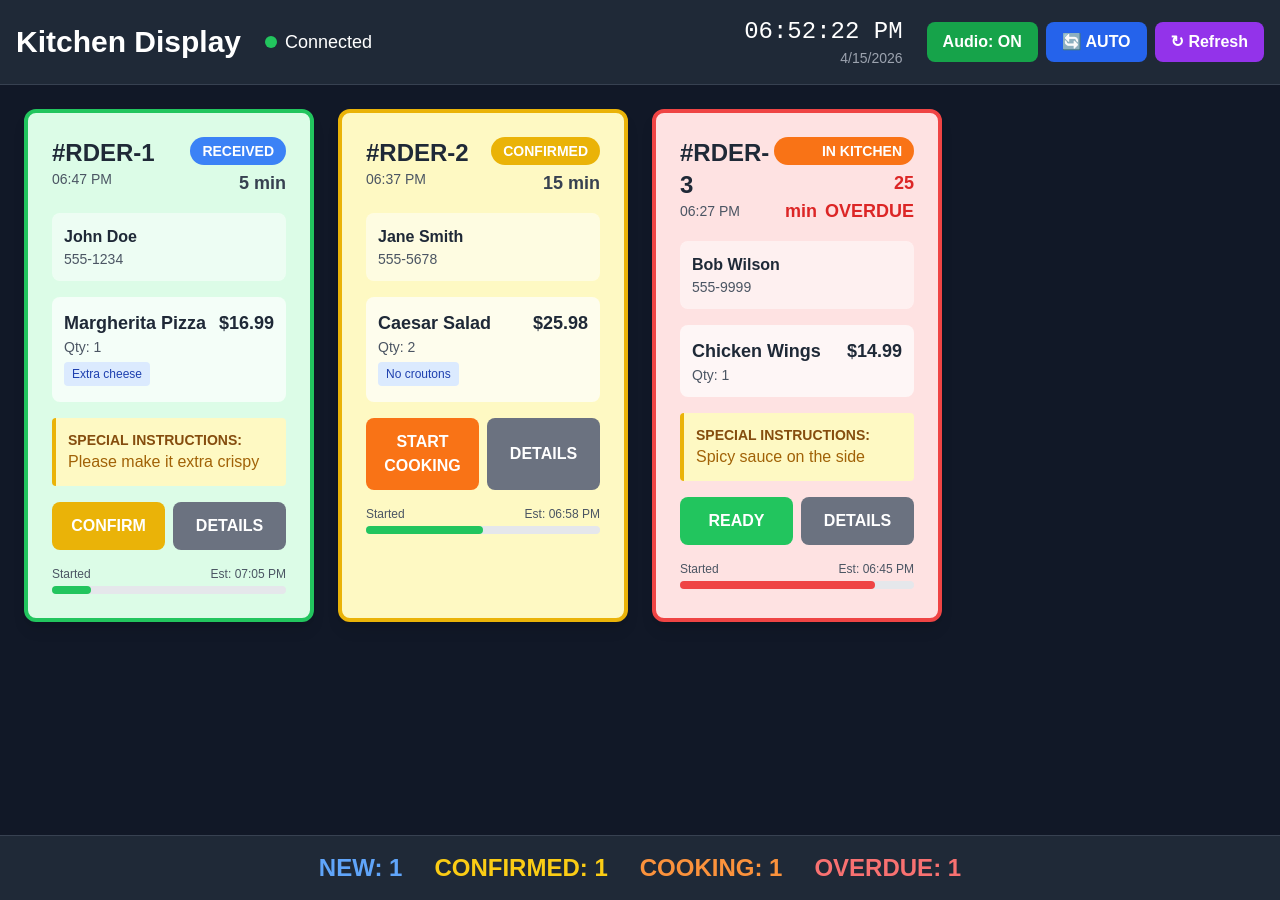
Test: KitchenDisplay › Footer Statistics › updates statistics when orders change
Expected: the text "NEW: 1" is shown, [319,852,402,884]
# Confirm an order
Click the button "CONFIRM".
click(108, 526)  # box [52,502,165,550]
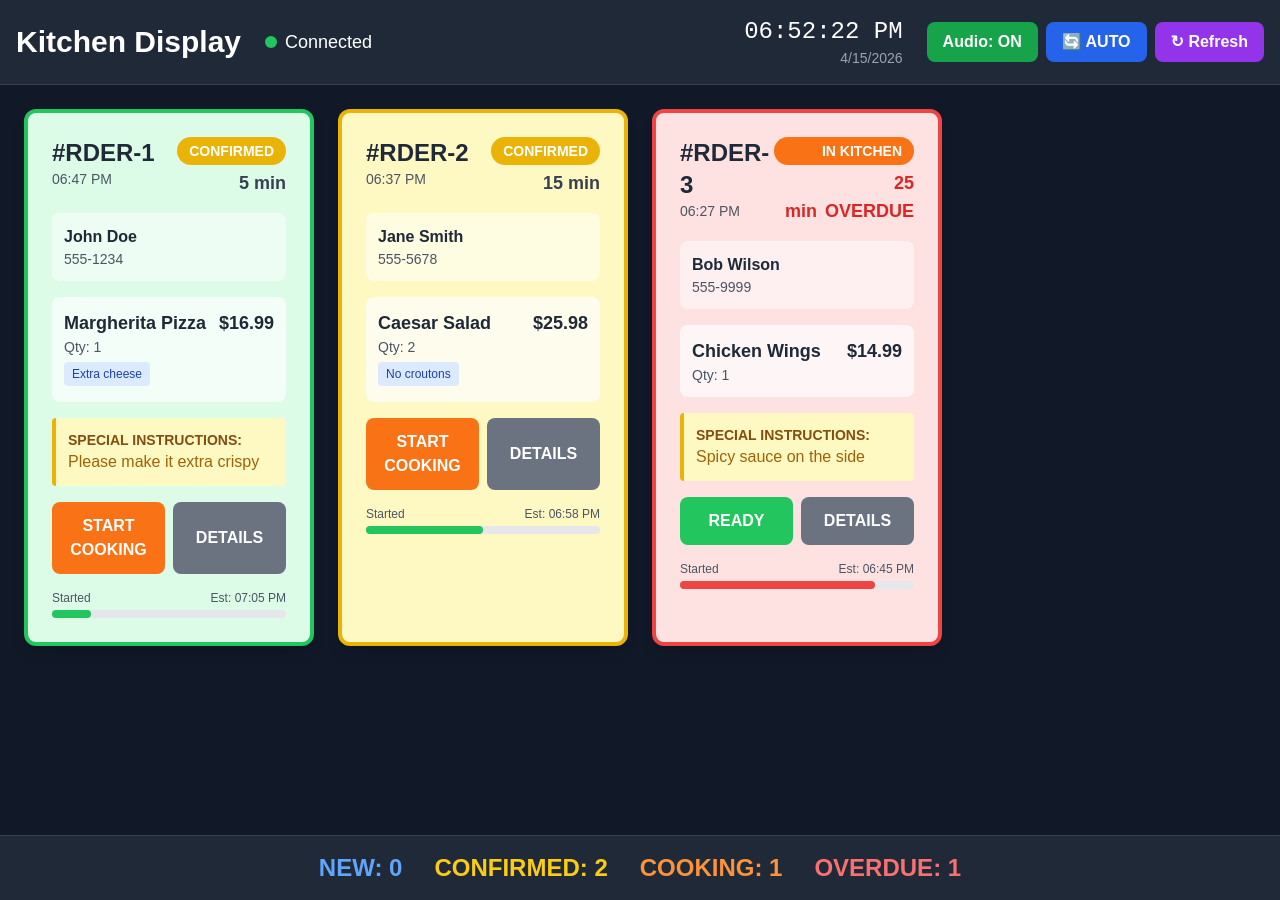
Expected: the text "NEW: 0" is shown, [319,852,402,884]
Expected: the text "CONFIRMED: 2" is shown, [434,852,608,884]
